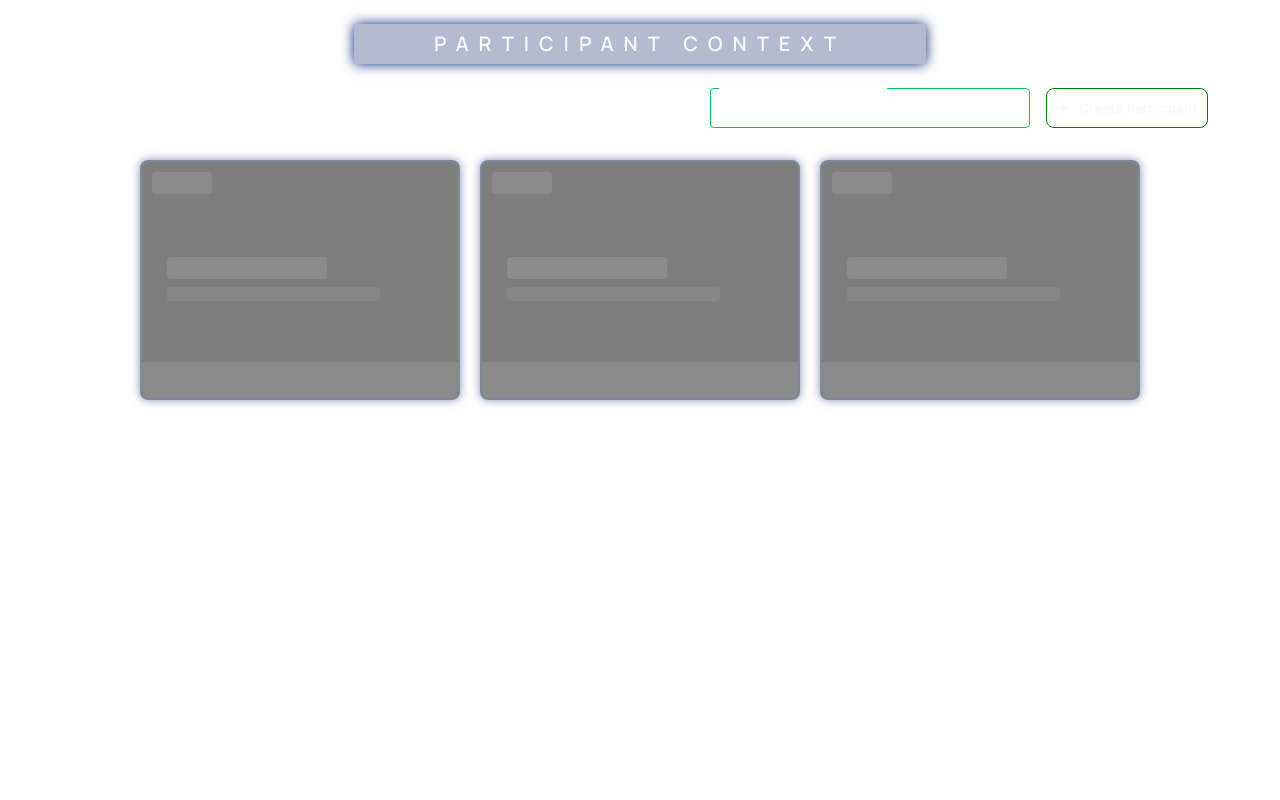
Scenario: ParticipantsPage › should show result dialog when create returns apiKey
The width and height of the screenshot is (1280, 800).
Click the button "Create Participant": coordinates (1127, 108) [1046,88,1208,128]
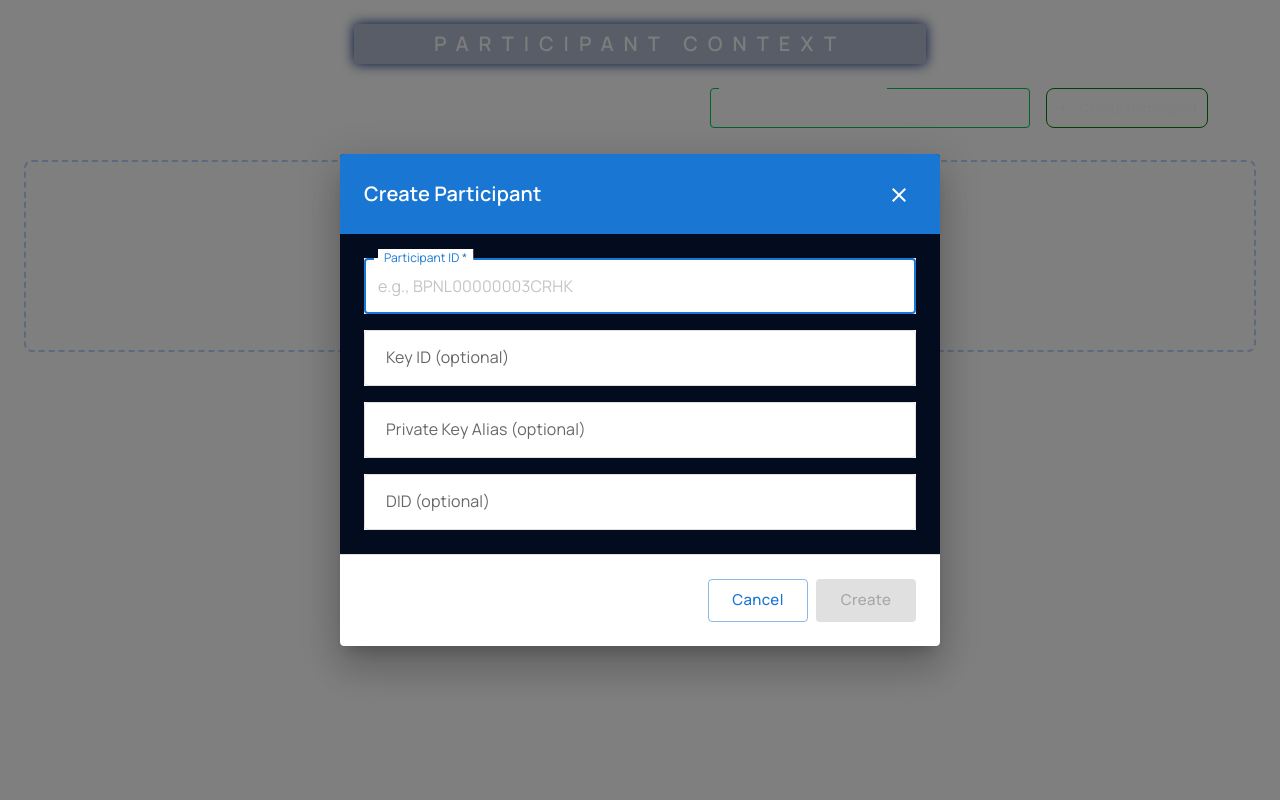
Now the field labelled "Participant ID *" is shown
In the field labelled "Participant ID *": coordinates (640, 286) [364,258,916,314], type "BPNL00000003NEW2"
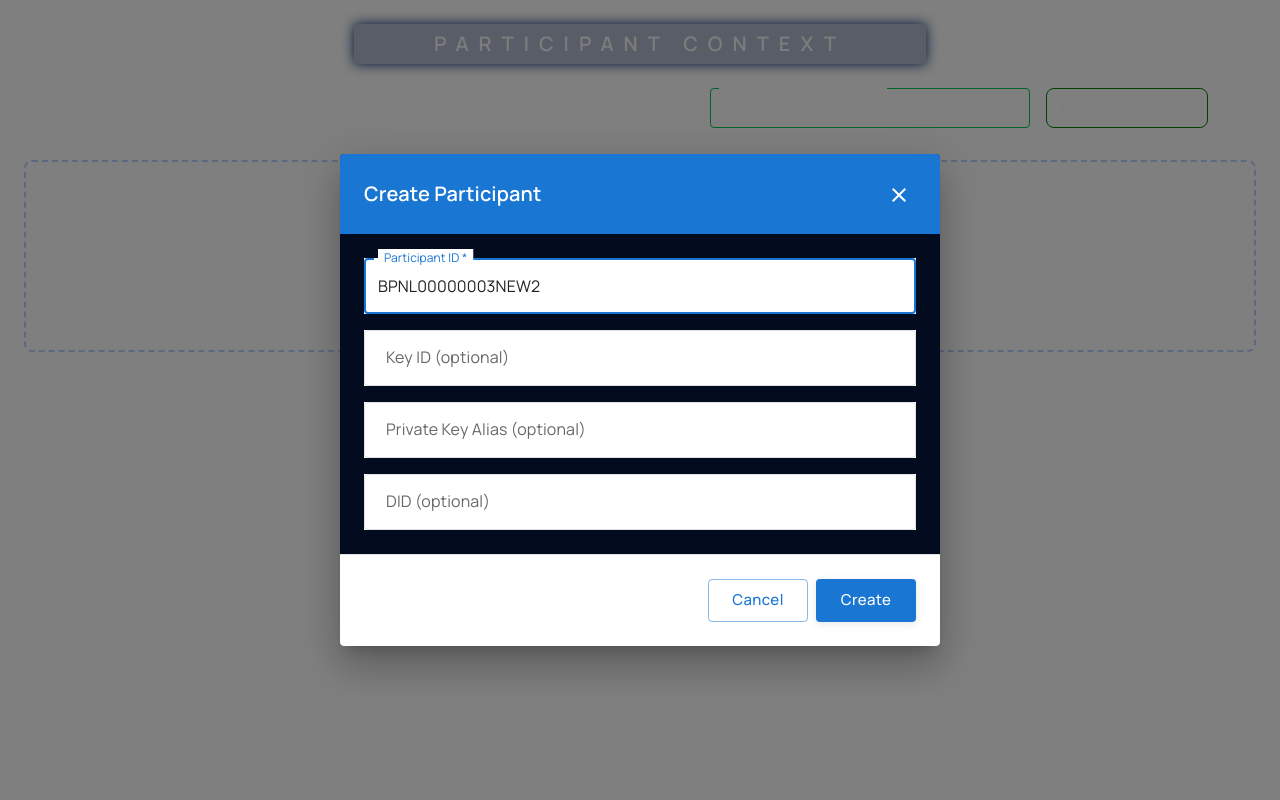
Click the button "Create": coordinates (866, 601) [816,579,916,622]
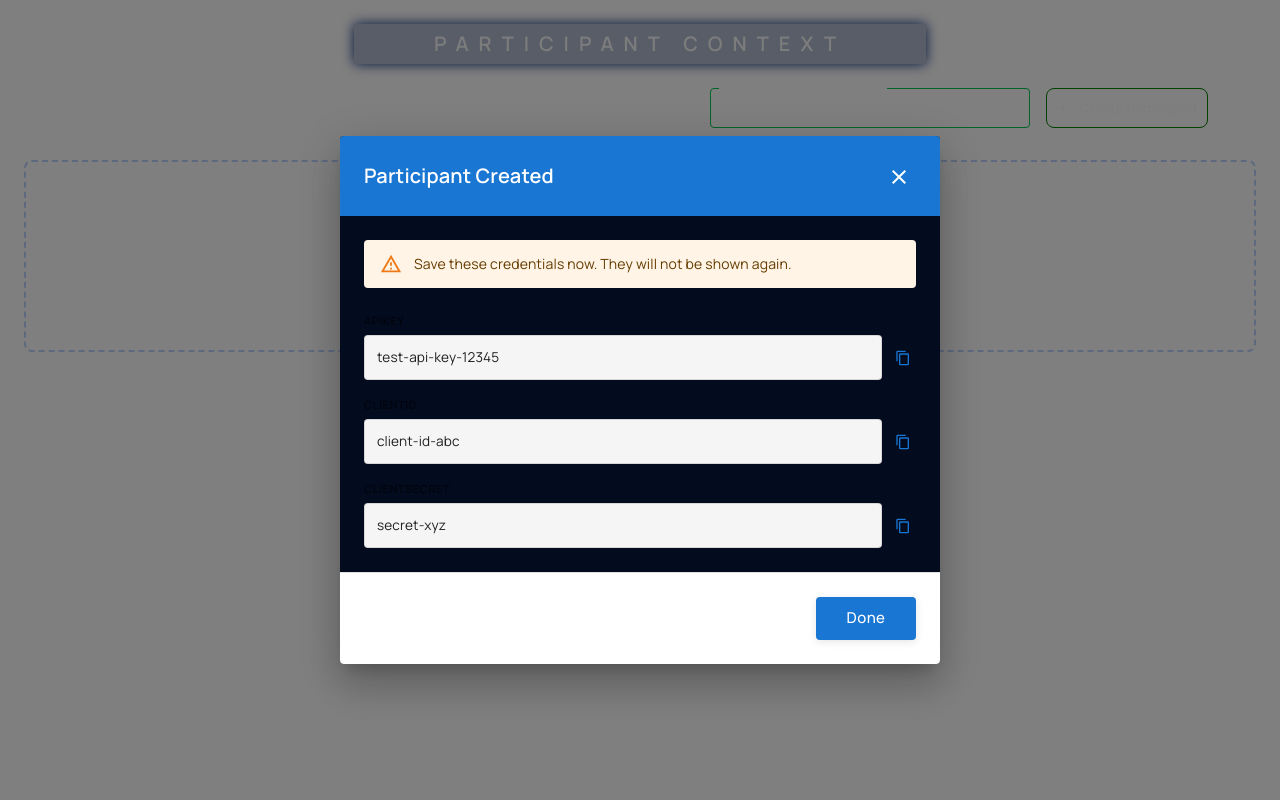
Now the heading "Participant Created" is shown, box [340,136,940,216]
Now the text "Save these credentials now. They will not be shown again." is shown, box [414,254,792,273]
Now the text "test-api-key-12345" is shown, box [364,335,882,380]
